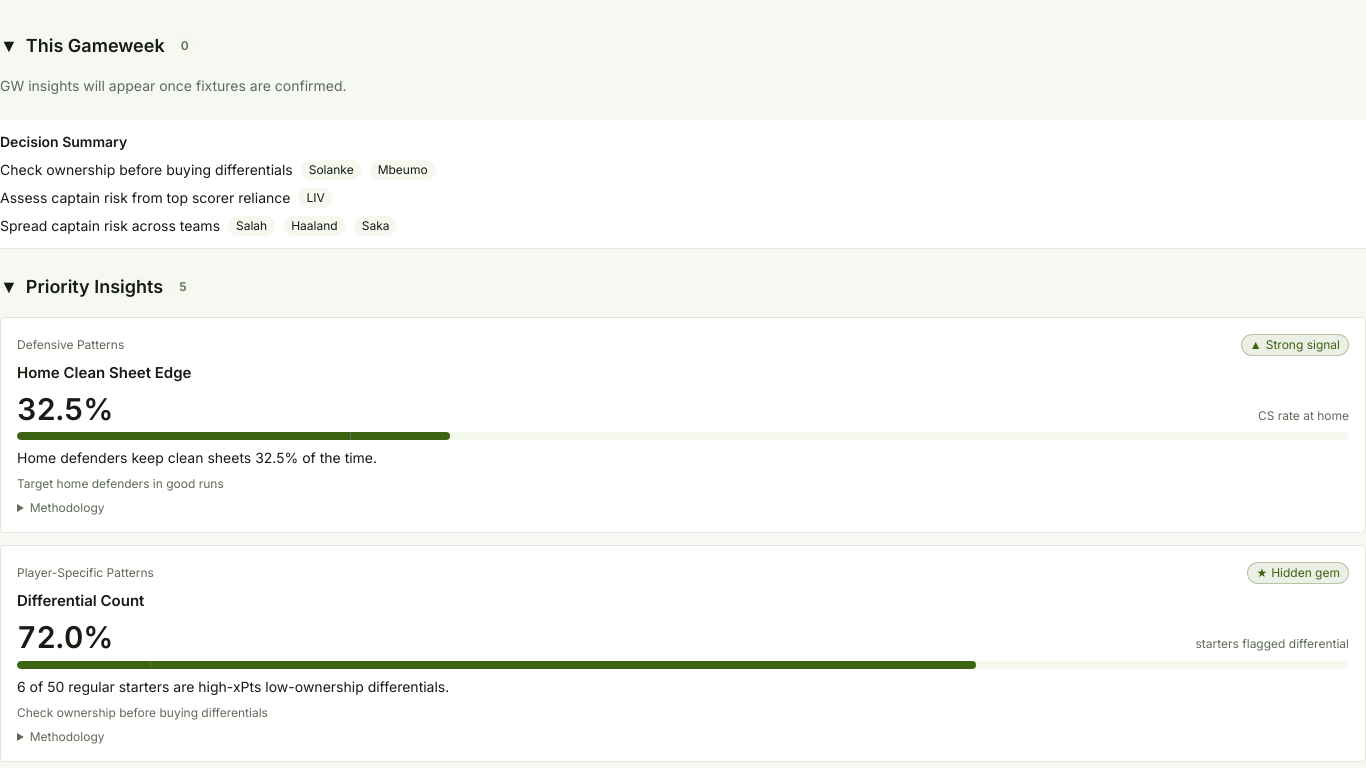
Test: Phase 79: InsightsTab component › collapsible (INS-04) › clicking section header toggles aria-expanded and hides children
Note: Click to collapse Priority Insights
Click the button "▼ Priority Insights 5" at {"x": 94, "y": 286}, box top-left (0, 265), bottom-right (1365, 309)
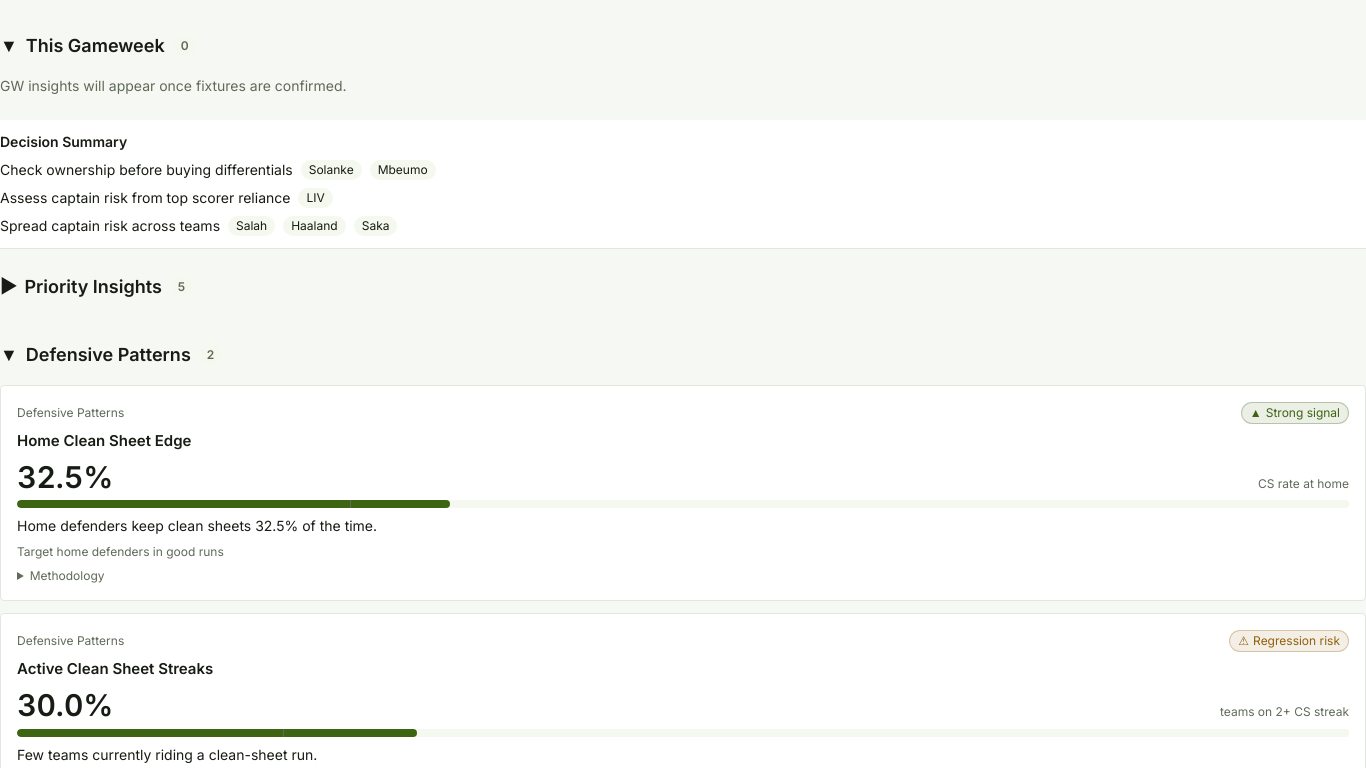
Expected: the button "▶ Priority Insights 5" is collapsed
Note: Re-expand and verify children reappear
Click the button "▶ Priority Insights 5" at {"x": 93, "y": 286}, box top-left (0, 265), bottom-right (1365, 309)
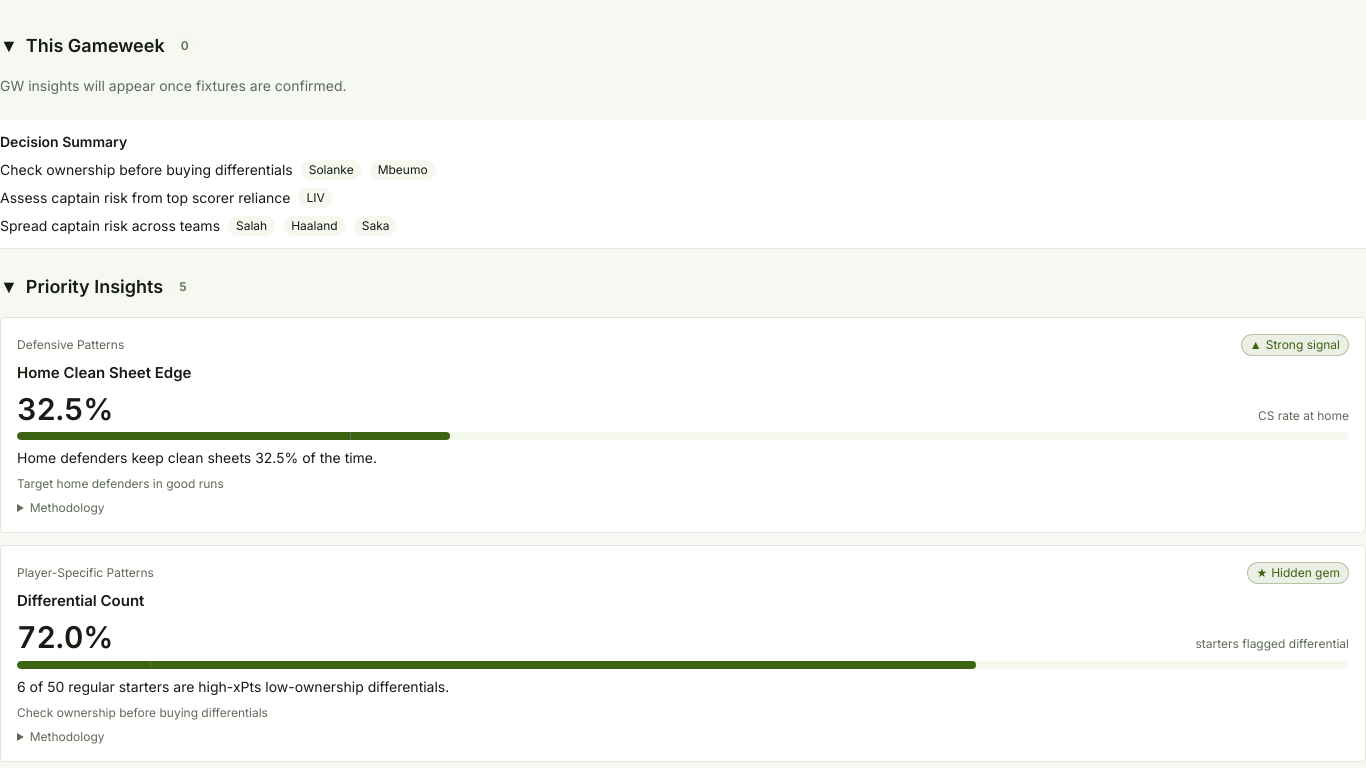
Expected: the button "▼ Priority Insights 5" is expanded, top-left (0, 265), bottom-right (1365, 309)
